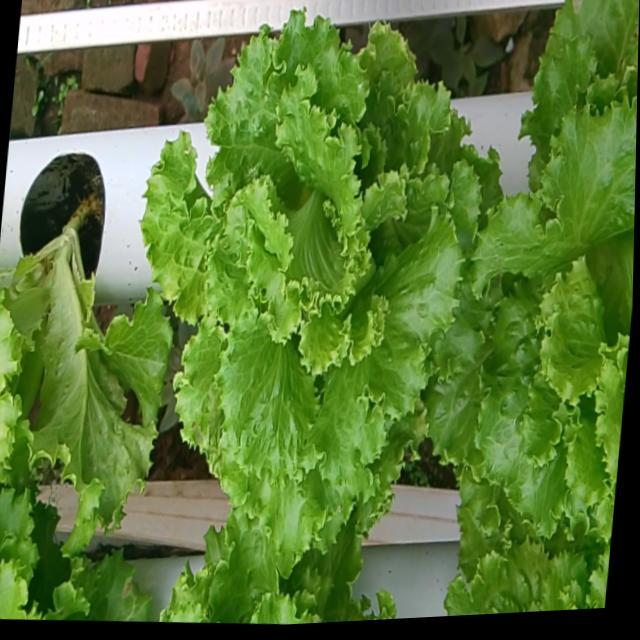Mature: (137, 0, 480, 546), (425, 80, 637, 530)
